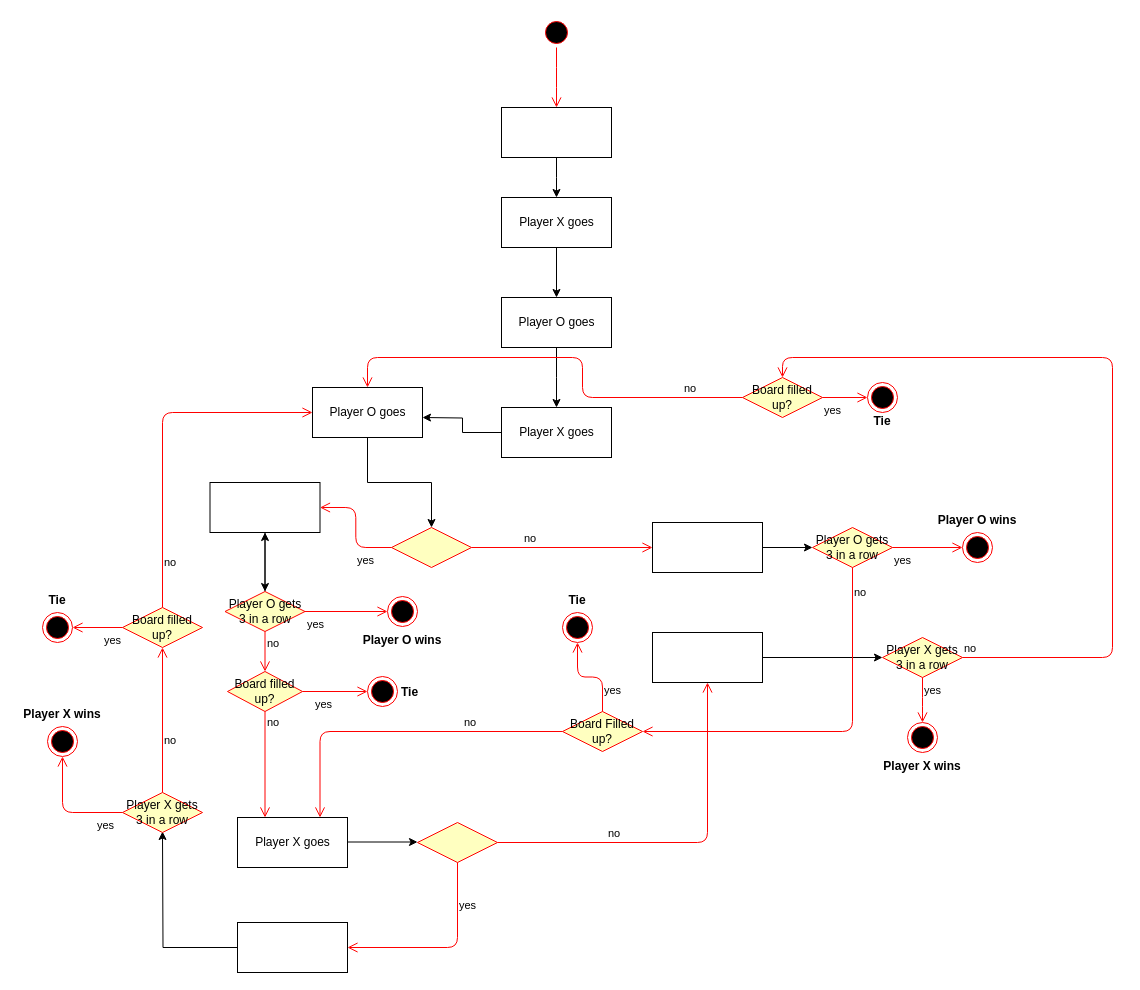
Image size: 1140x990. Some labels were removed from this diagram. Each missing label, with the box of its shape:
1 Player draws a 3x3 graph for game: (500, 106, 612, 158)
Block them: (236, 922, 348, 972)
Block them.: (209, 482, 320, 532)
Is Player O getting 3 in a row?: (416, 822, 498, 862)
Is Player X getting 3 in a row?: (390, 526, 472, 568)
Put O somewhere random: (652, 522, 762, 572)
Put X somewhere random: (652, 632, 762, 682)
